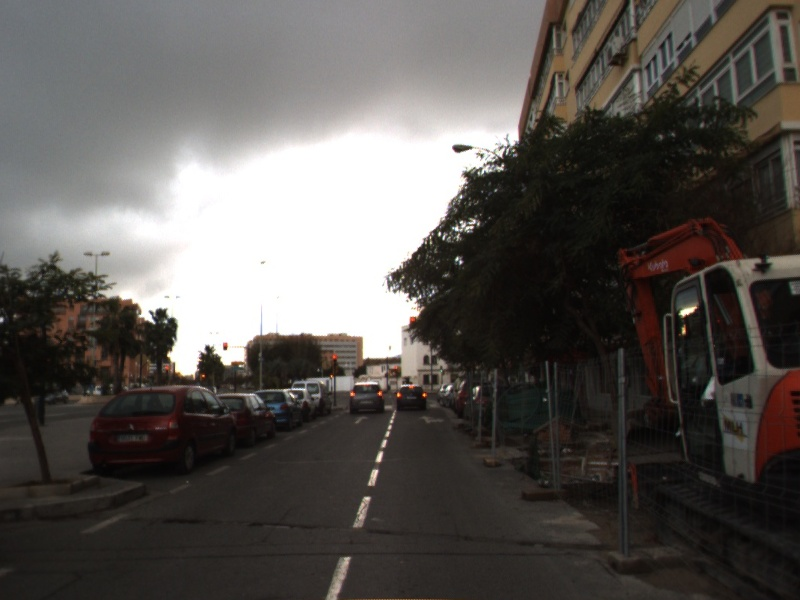STRAIGHT: (352, 413, 370, 425)
STRAIGHT_RIGHT: (417, 413, 448, 425)
